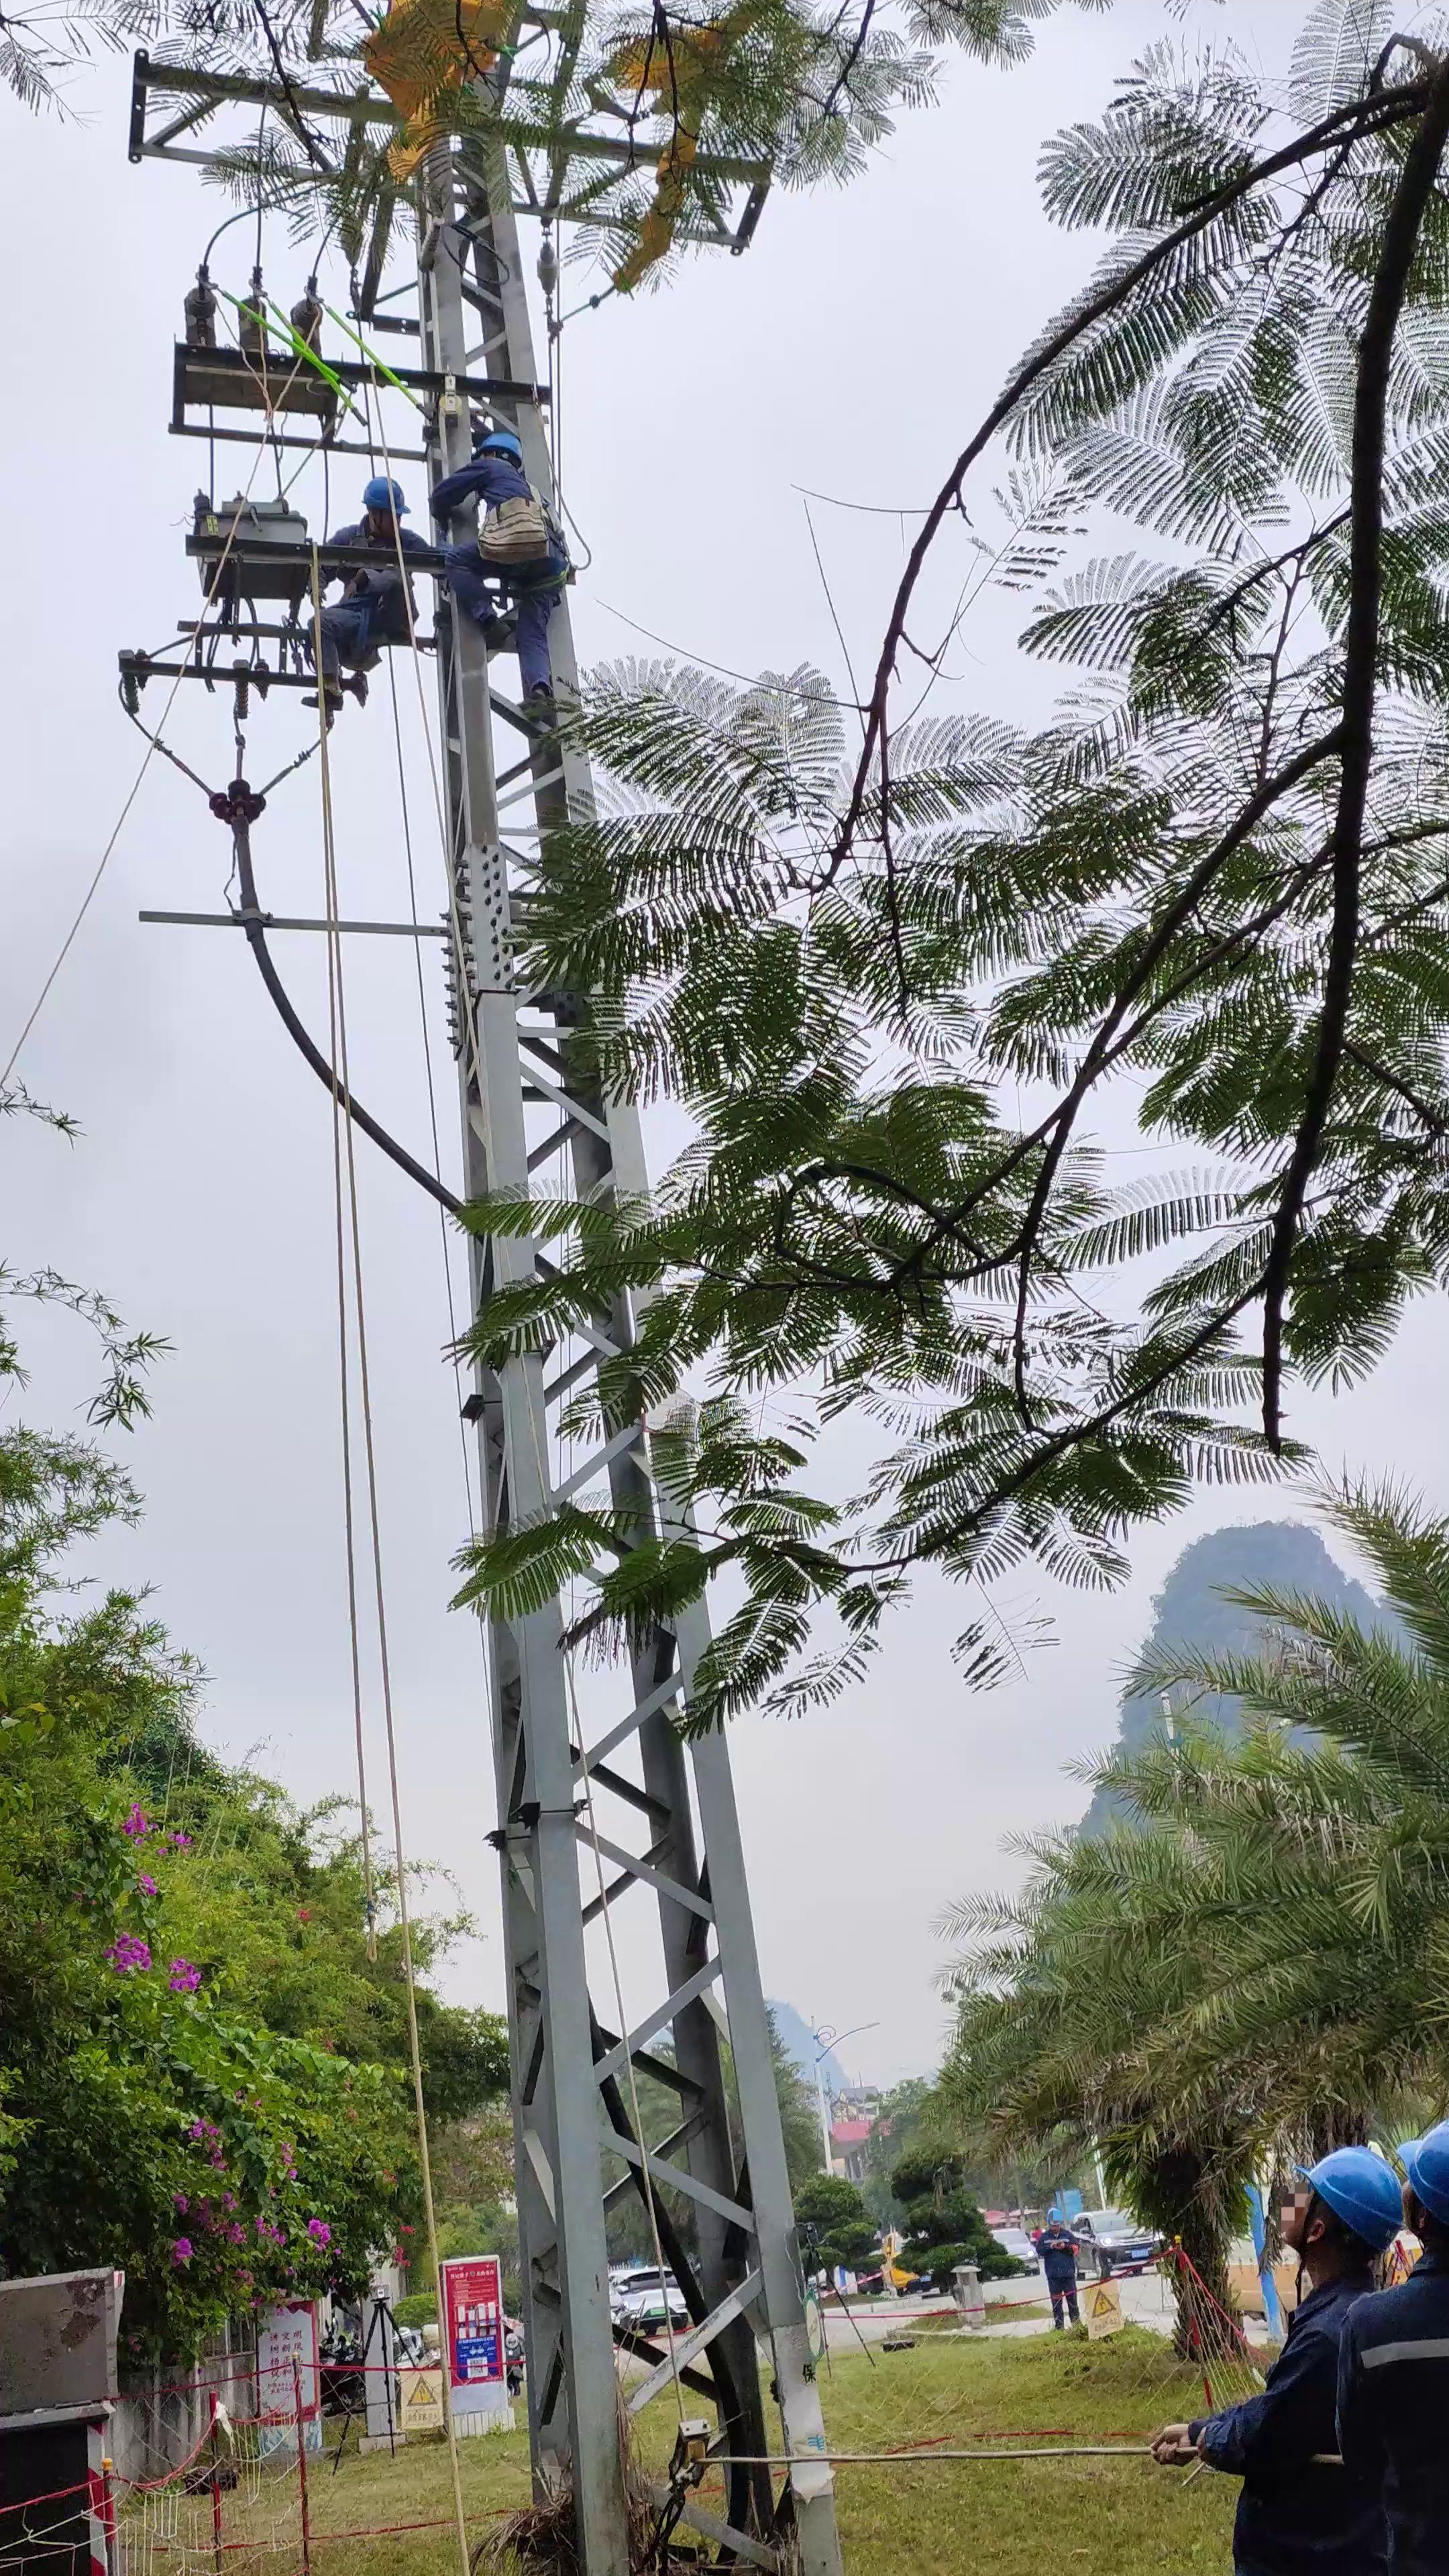halt: (1290, 2150, 1401, 2277), (1401, 2125, 1449, 2263), (361, 474, 407, 531), (479, 428, 524, 462), (1046, 2210, 1065, 2233)
inear: (1299, 2194, 1348, 2261)
